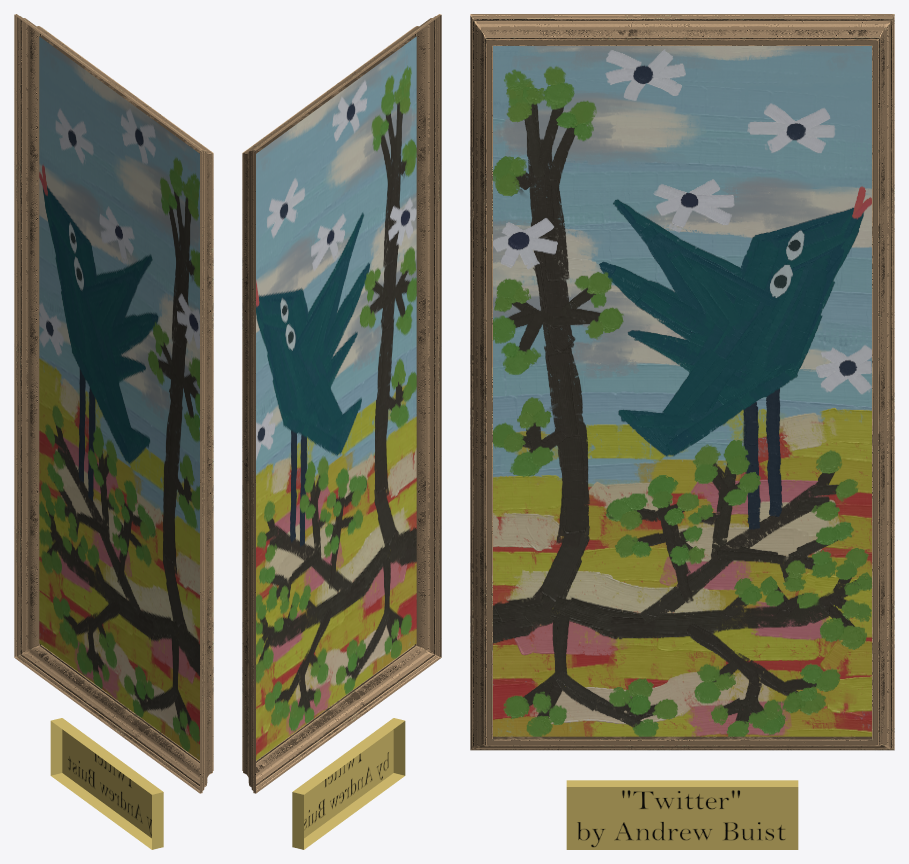
Rendered from museum_hall_painting4.glb.
The picture shows the model from 3 angles, left to right: view 1: azimuth 30°, elevation 25°; view 2: azimuth 150°, elevation 25°; view 3: azimuth 270°, elevation 25°; orthographic projection. The views are drawn at different scales.
Visible parts, largest first — view 1: link4; view 2: link4; view 3: link4.
Part boxes in pixels (x1=…): link4: x1=14, y1=14, x2=213, y2=849; link4: x1=242, y1=14, x2=441, y2=849; link4: x1=470, y1=14, x2=894, y2=849.
Size of the model in its own units: 0.2268 by 5.95 by 2.75.
Materials: 1 (1 with a texture image).
